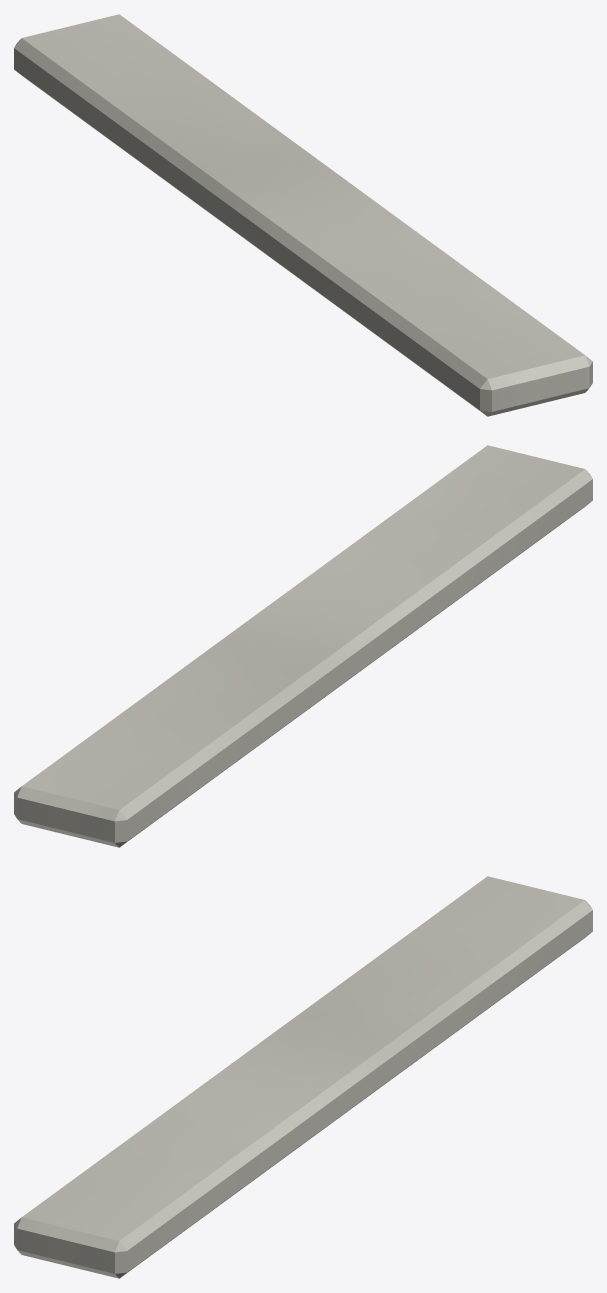
File: lamp_strip_prison.fbx
3 views of the same model, one above another, from view 1: azimuth 30°, elevation 25°; view 2: azimuth 150°, elevation 25°; view 3: azimuth 330°, elevation 25° (orthographic).
Visible parts, largest first — view 1: lamp_strip_prison; view 2: lamp_strip_prison; view 3: lamp_strip_prison.
Part boxes in pixels (x1,y1,x2,y2): lamp_strip_prison: (14, 14, 592, 416); lamp_strip_prison: (14, 445, 592, 847); lamp_strip_prison: (14, 876, 592, 1278).
Bounding box in the file's own units: 0.22 × 0.077 × 1.6.
Materials: 1 (1 with a texture image).
